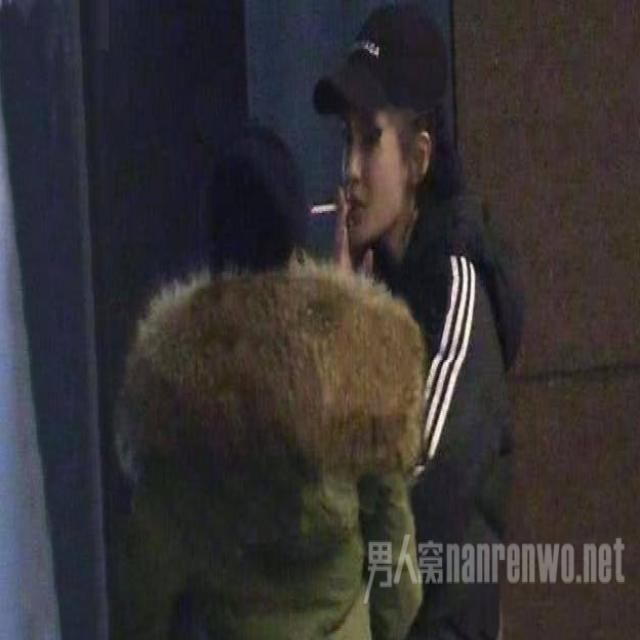smoke: (310, 201, 341, 216)
